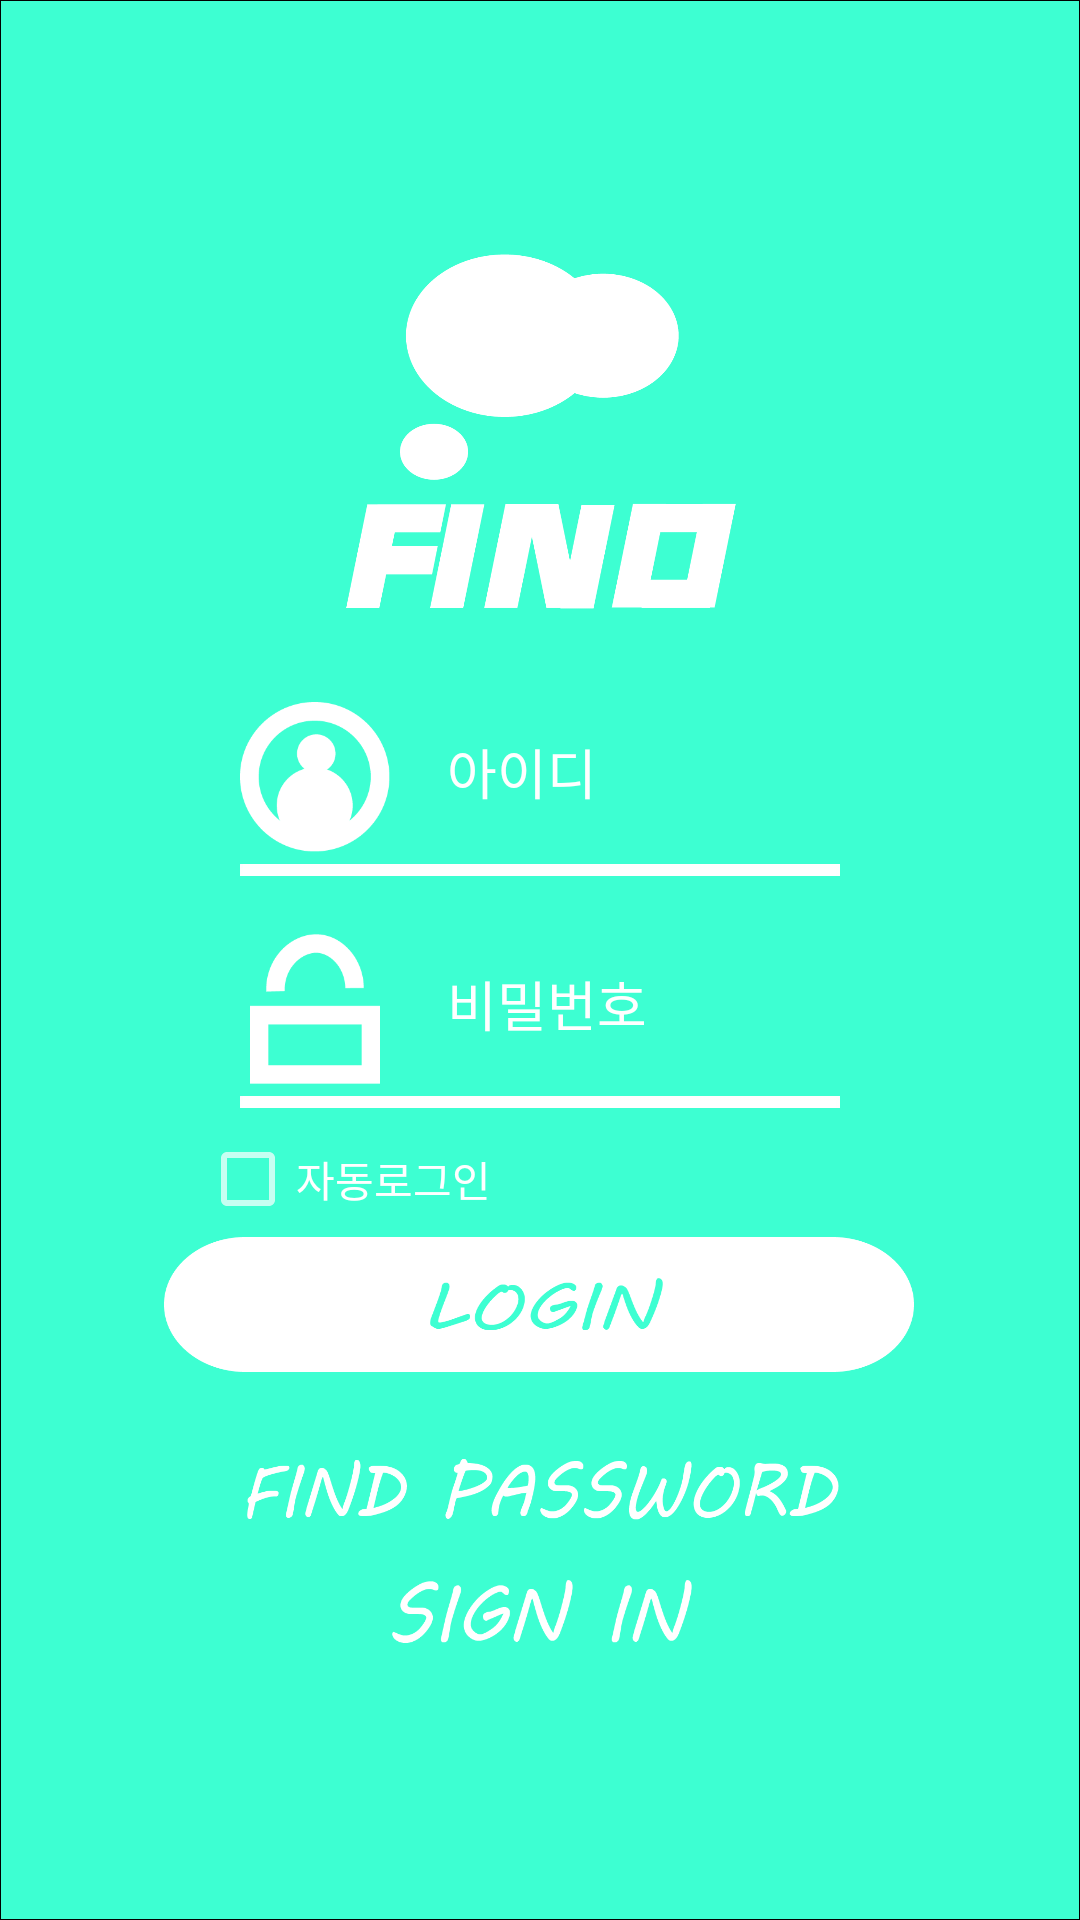

Where to tap for icons on this 1080×1920 app screen, as (x=x, y=y):
lock: (x=315, y=1009)
men: (x=315, y=777)
